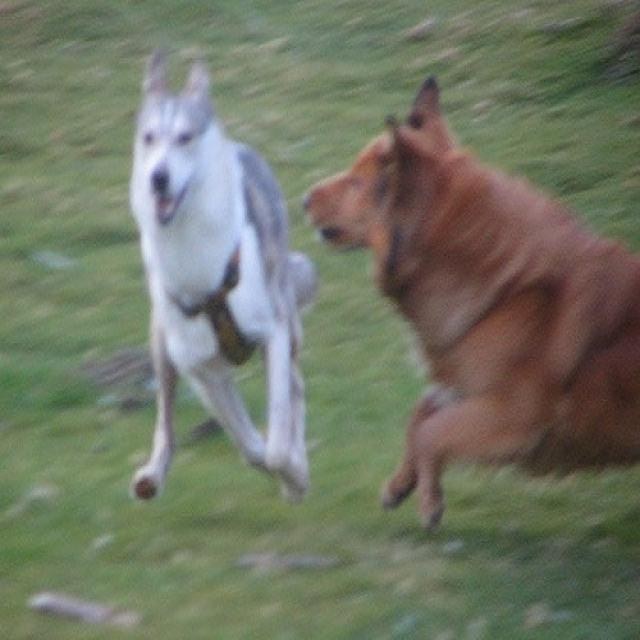dog: (300, 77, 638, 527), (127, 48, 316, 500)
